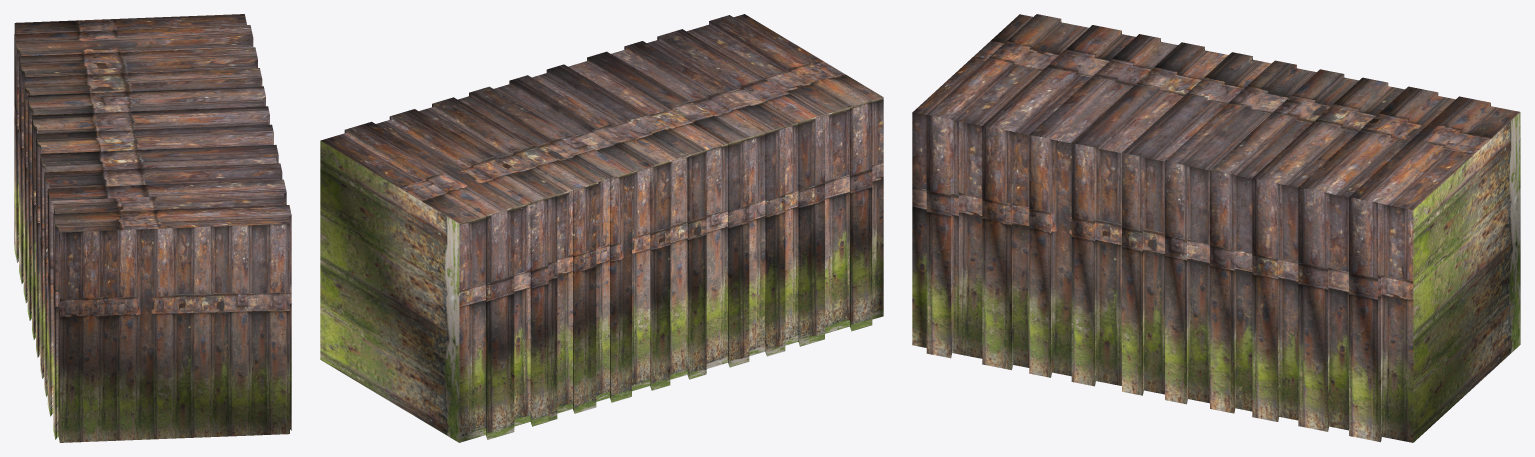
The model's file is Container.fbx.
The picture shows the model from 3 angles, left to right: view 1: azimuth 30°, elevation 25°; view 2: azimuth 150°, elevation 25°; view 3: azimuth 270°, elevation 25°; orthographic projection. The views are drawn at different scales.
Visible parts, largest first — view 1: Container; view 2: Container; view 3: Container.
Part boxes in pixels (x1=…): Container: x1=14, y1=14, x2=291, y2=442; Container: x1=320, y1=14, x2=883, y2=442; Container: x1=912, y1=14, x2=1520, y2=442.
Bounding box in the file's own units: 464 × 609 × 264.
